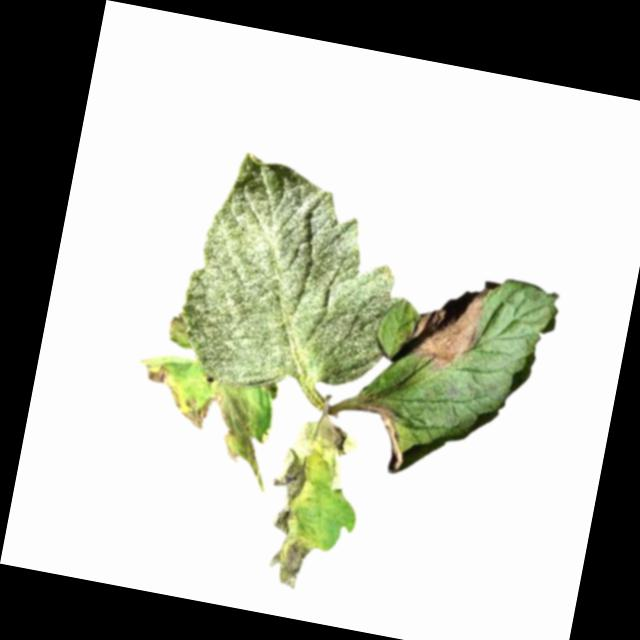Late_blight: (252, 413, 371, 599), (400, 275, 492, 383), (202, 389, 284, 494), (352, 400, 413, 471), (139, 362, 187, 409), (177, 390, 214, 433), (166, 307, 192, 340)
healthy: (168, 142, 431, 417)
